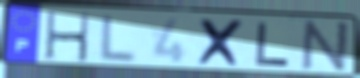4: (150, 17, 190, 66)
H: (44, 11, 91, 64)
L: (96, 14, 140, 66), (253, 21, 292, 69)
N: (299, 20, 353, 75)
X: (195, 17, 249, 69)
